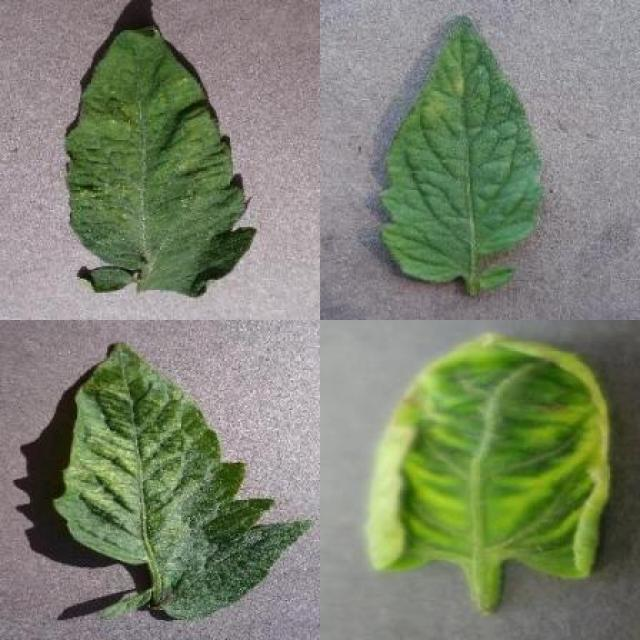Leaf Mold: (384, 13, 542, 286)
Spider Mites: (54, 343, 315, 623), (64, 26, 256, 301)
Yellow Leaf Curl Virus: (365, 332, 612, 582)
